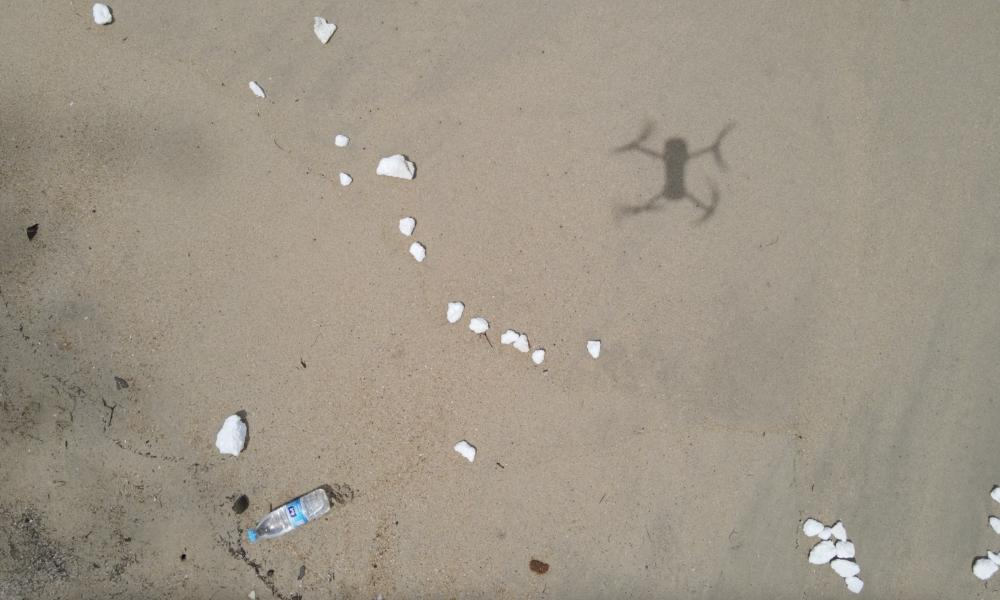plastic bottle: (250, 486, 332, 539)
styrofoam: (807, 514, 860, 594), (401, 215, 427, 264), (217, 413, 246, 454), (377, 152, 415, 179), (504, 334, 541, 360), (314, 17, 337, 43), (455, 436, 476, 462), (93, 1, 111, 22), (451, 296, 462, 325), (470, 316, 485, 333)
